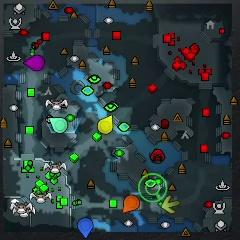p1: (77, 218, 93, 238)
p2: (49, 118, 67, 133)
p3: (23, 54, 45, 71)
p4: (98, 115, 113, 133)
p5: (123, 195, 139, 213)
x2: (162, 196, 180, 213)
